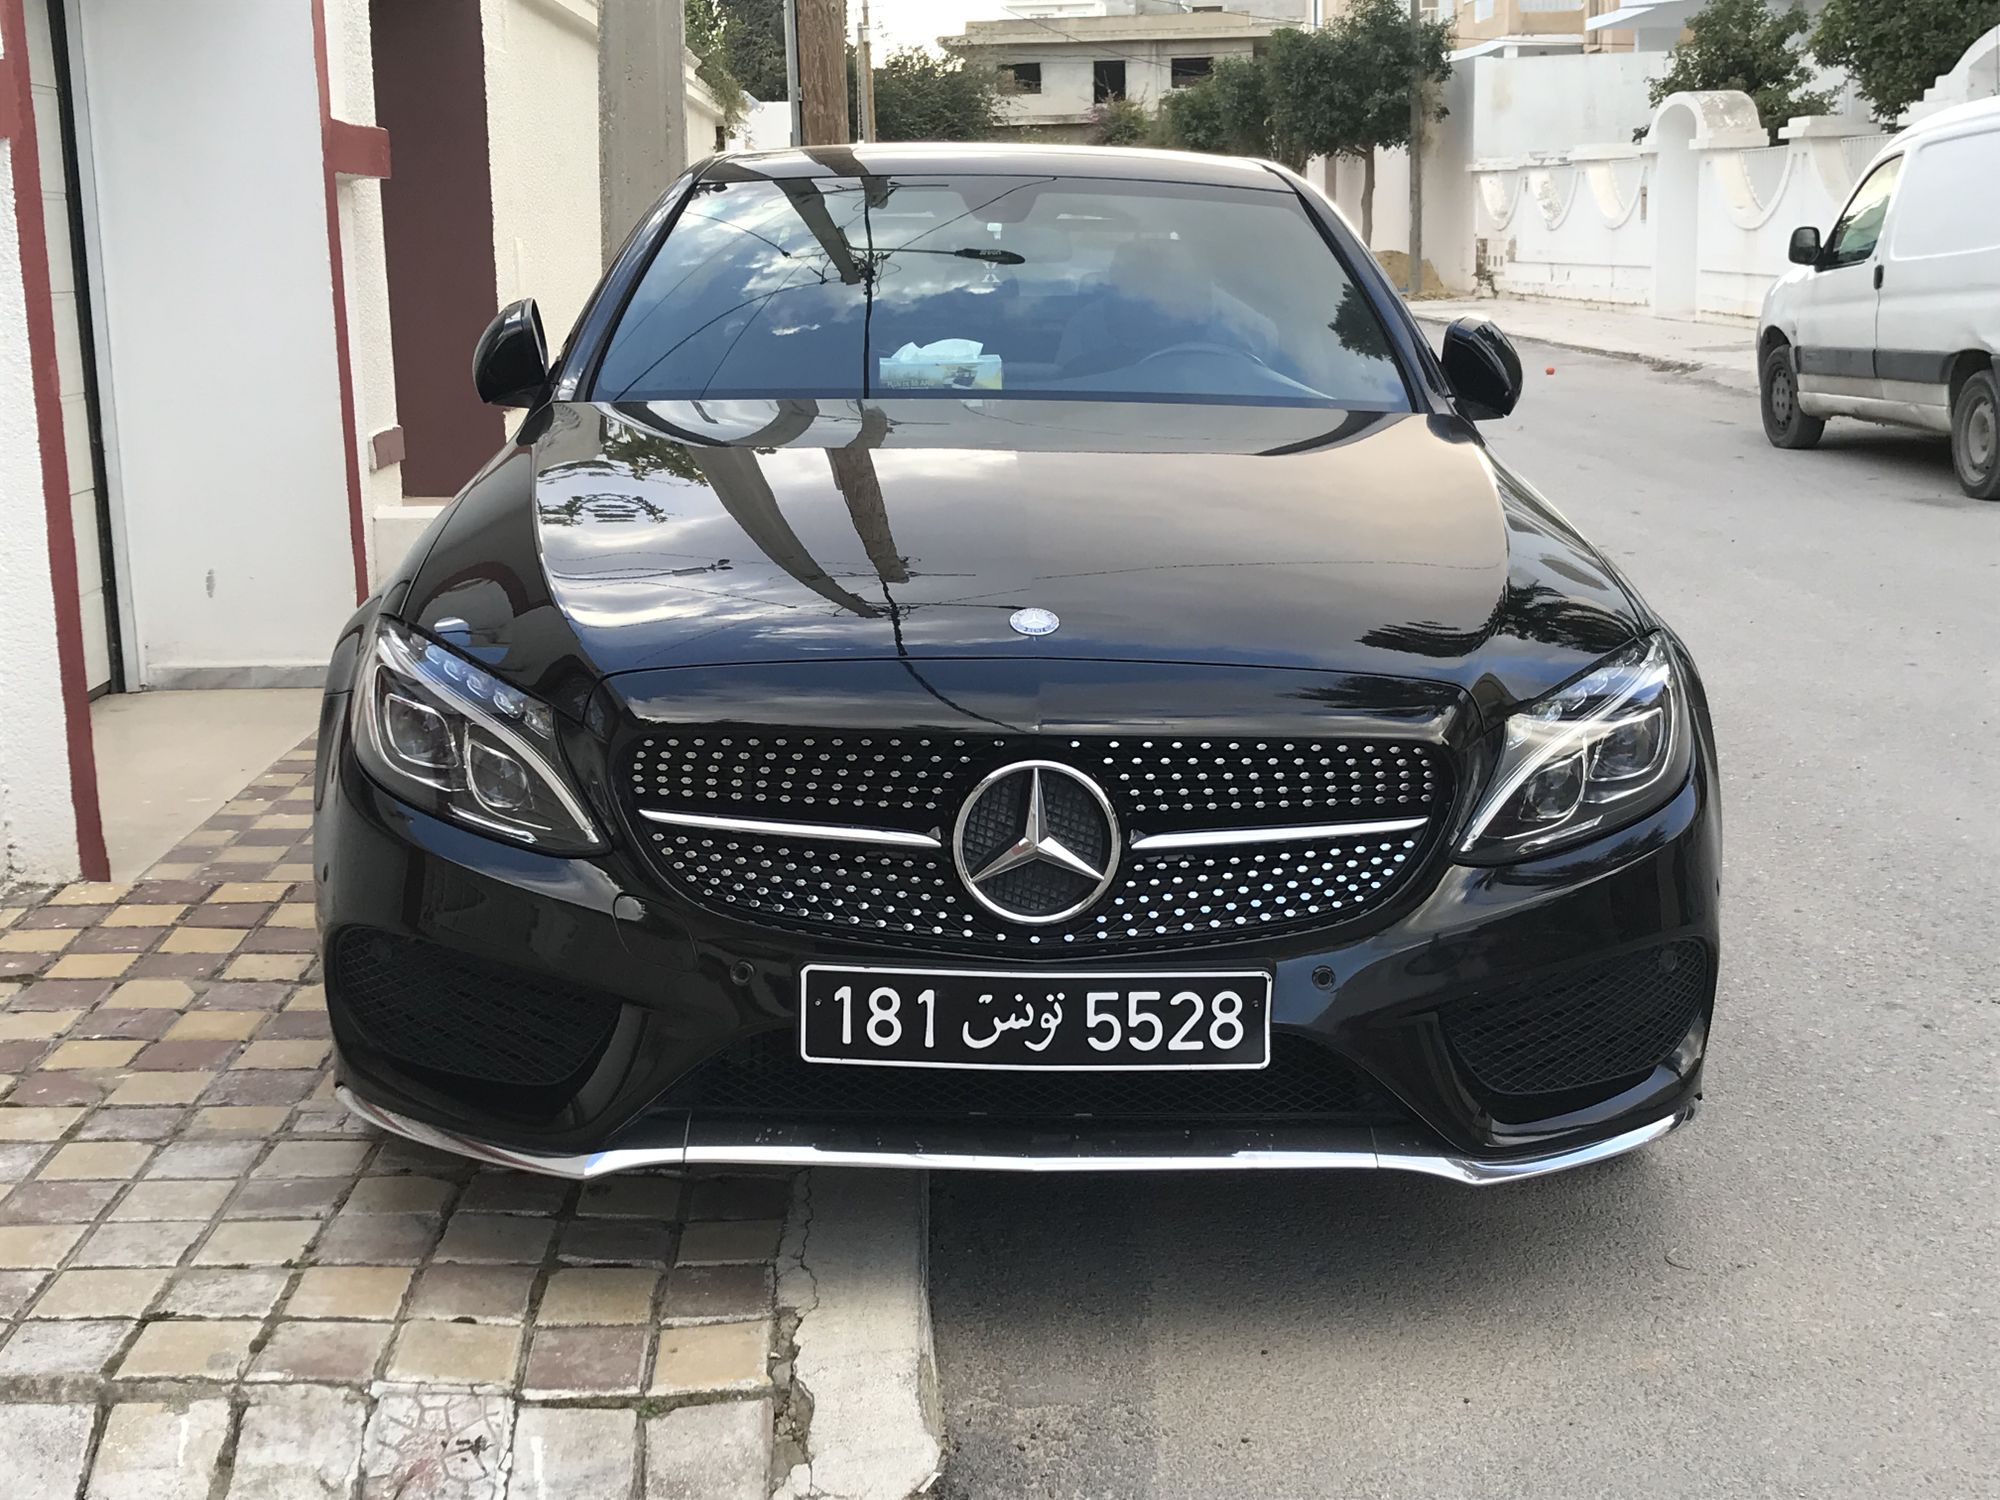LP: (800, 959, 1272, 1087)
